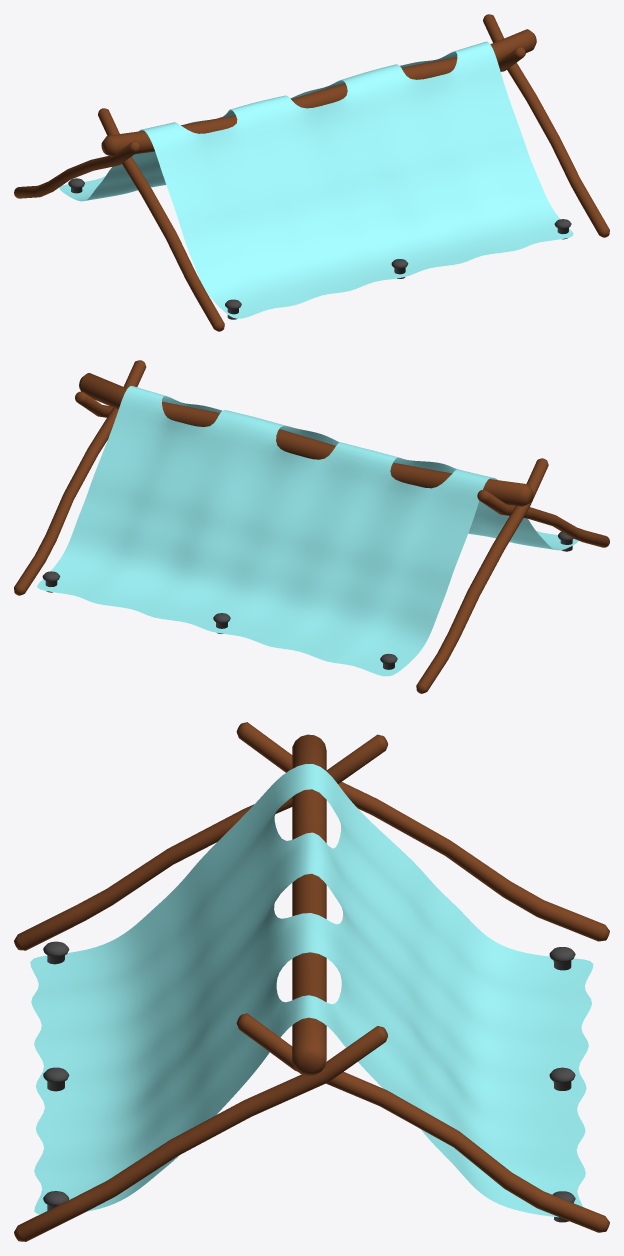
The model's file is teepee_v3.fbx.
The picture shows the model from 3 angles, top to bottom: view 1: azimuth 30°, elevation 25°; view 2: azimuth 150°, elevation 25°; view 3: azimuth 270°, elevation 25°; orthographic projection. The views are drawn at different scales.
Visible parts, largest first — view 1: teepee; view 2: teepee; view 3: teepee.
Boxes of the visible parts, x1,y1,x2,y2 form: teepee: [14, 14, 609, 331]; teepee: [14, 360, 609, 693]; teepee: [14, 722, 609, 1241].
Bounding box in the file's own units: 245 × 76.74 × 190.
